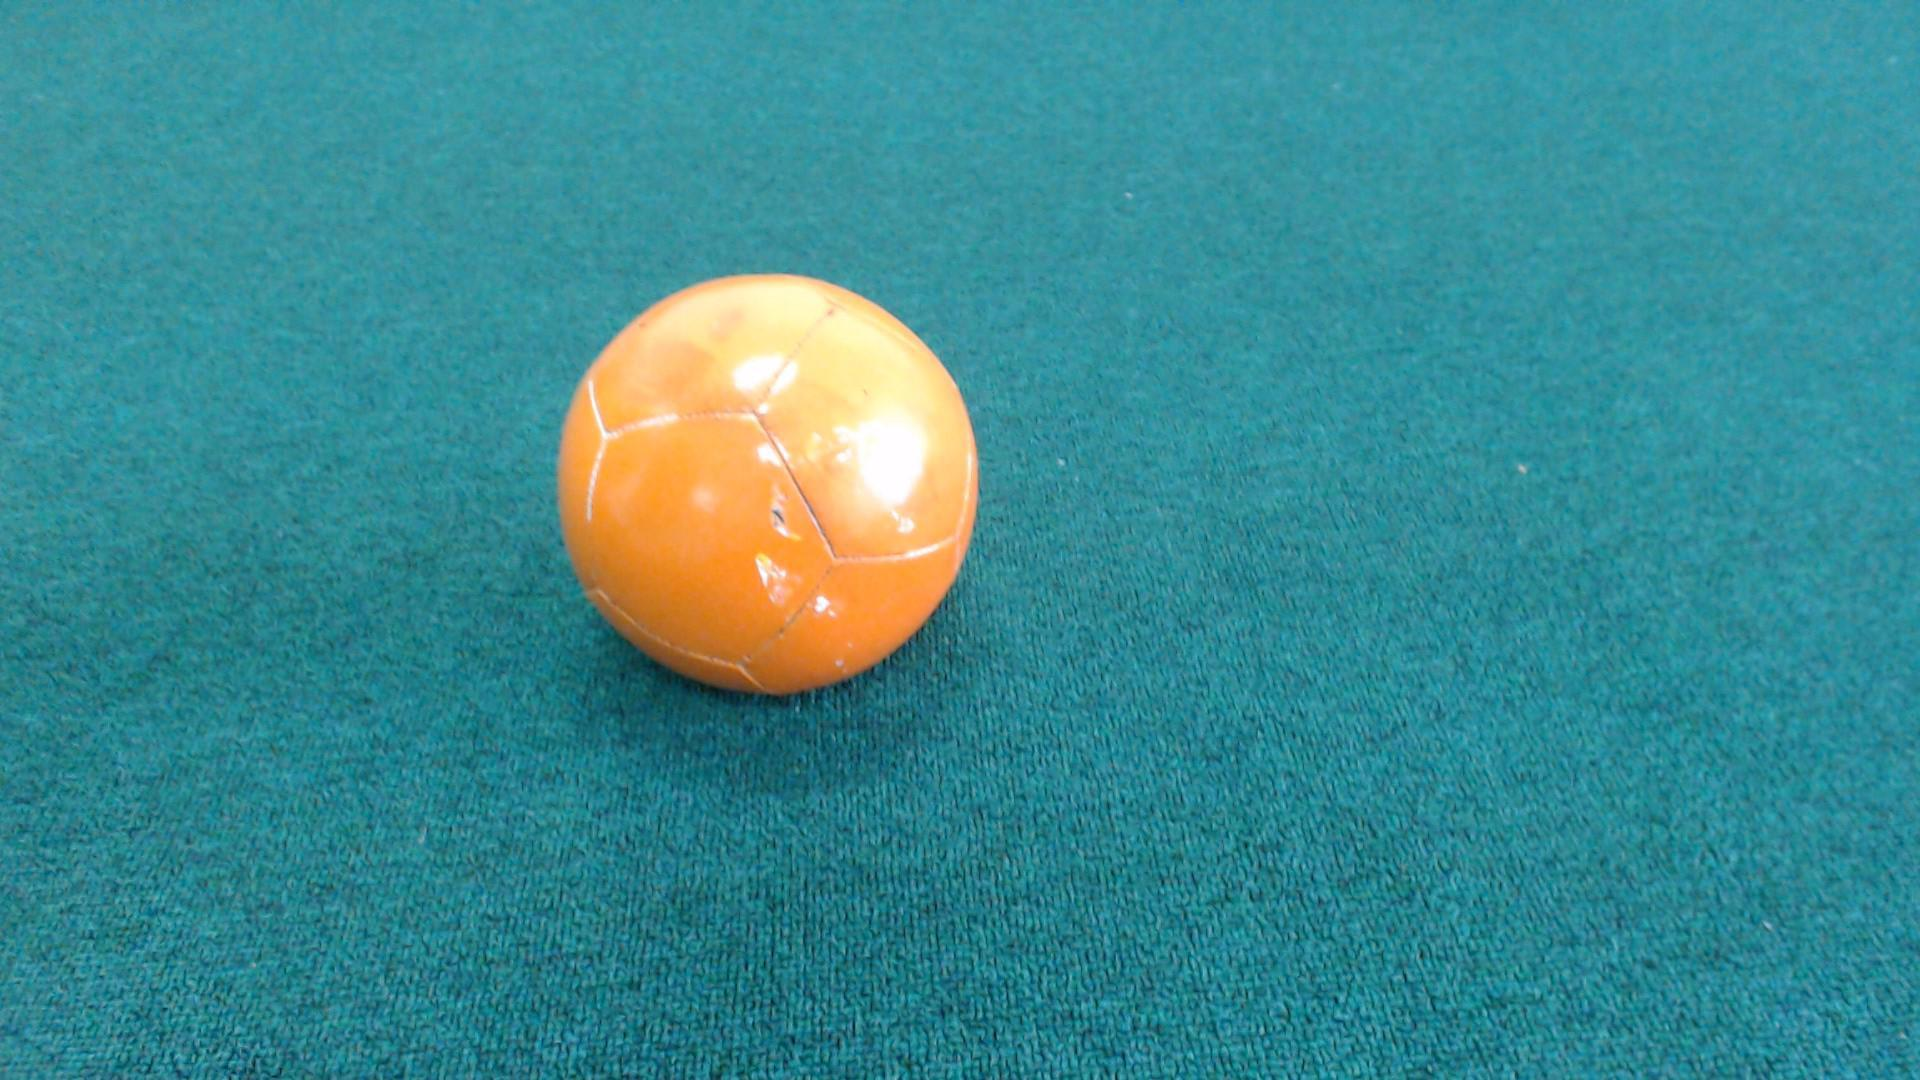bola: (501, 225, 1018, 741)
